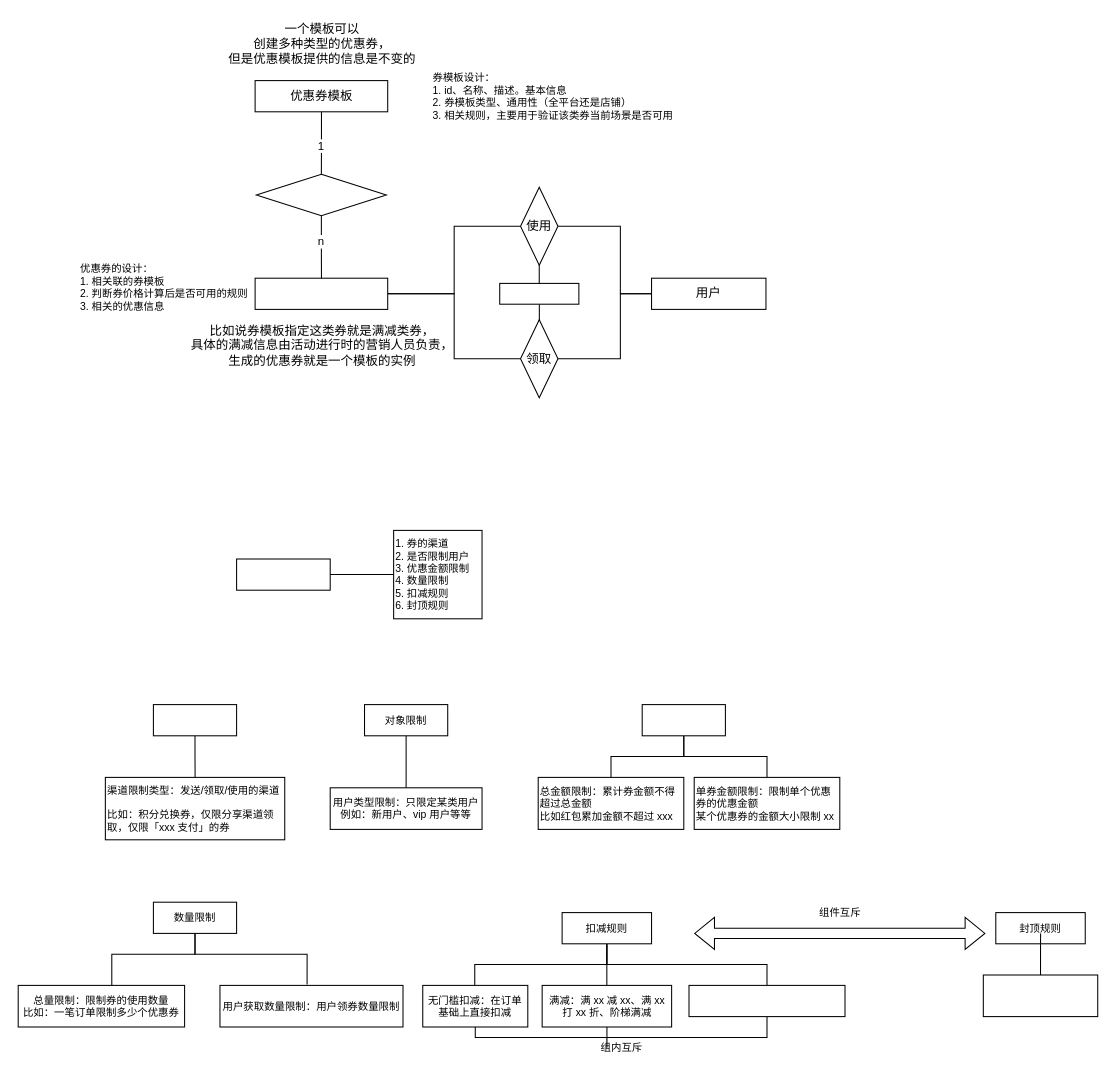
Some shapes in this 1116 by 1075 pixel diagram are drawn without their labels. Each missing label, with the centre of its shape:
优惠券: [321,293]
创建: [320,194]
封顶金额： 满 xx 减 xx、打xx折: [1040,995]
打折：在订单金额上直接打xx折: [766,1000]
渠道限制: [194,720]
规则: [539,293]
规则类的设计: [283,574]
金额限制: [683,720]
